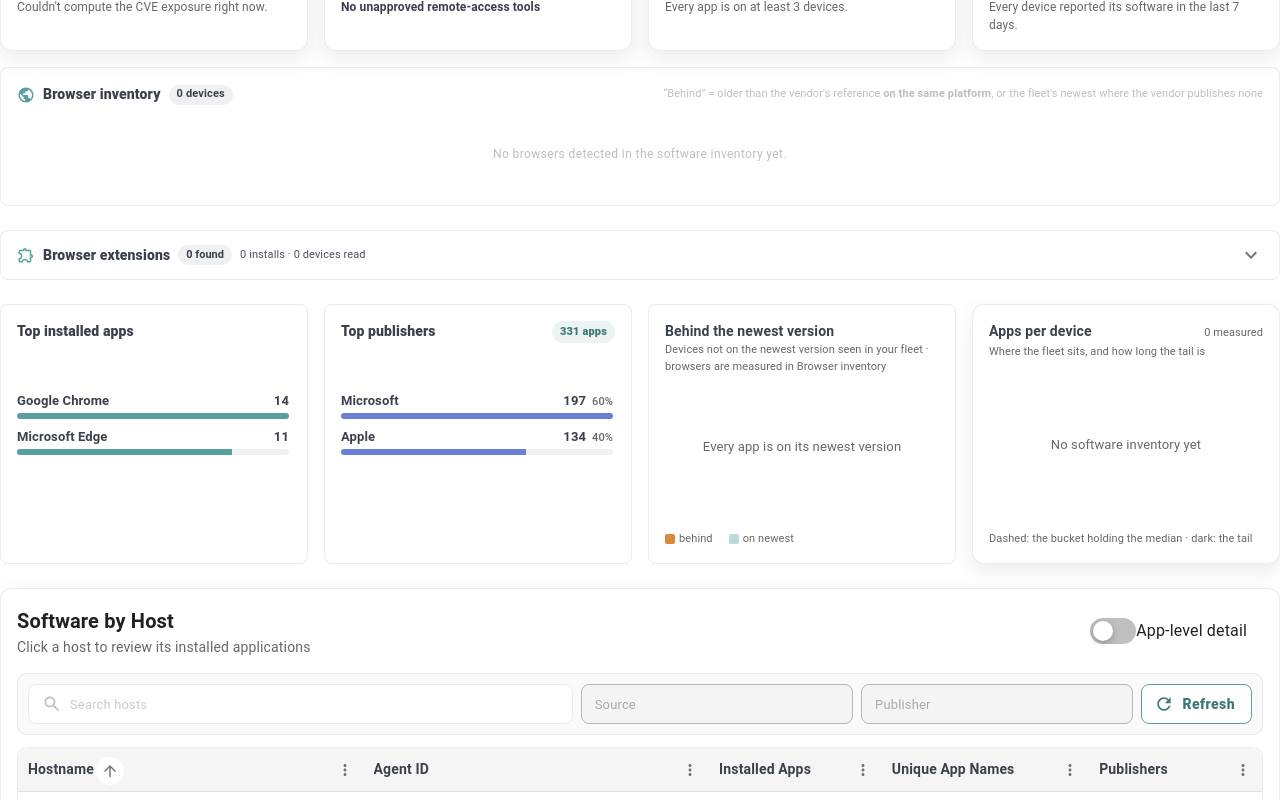
Scenario: SoftwareInventory — filas del ranking › ⭐ un editor del ranking filtra por su etiqueta normalizada (rankedPublisher), no por la columna cruda
The image size is (1280, 800).
(page scrolled)
Click the button "Microsoft 197 60%". click: x=370, y=400
box: [341,391,613,410]
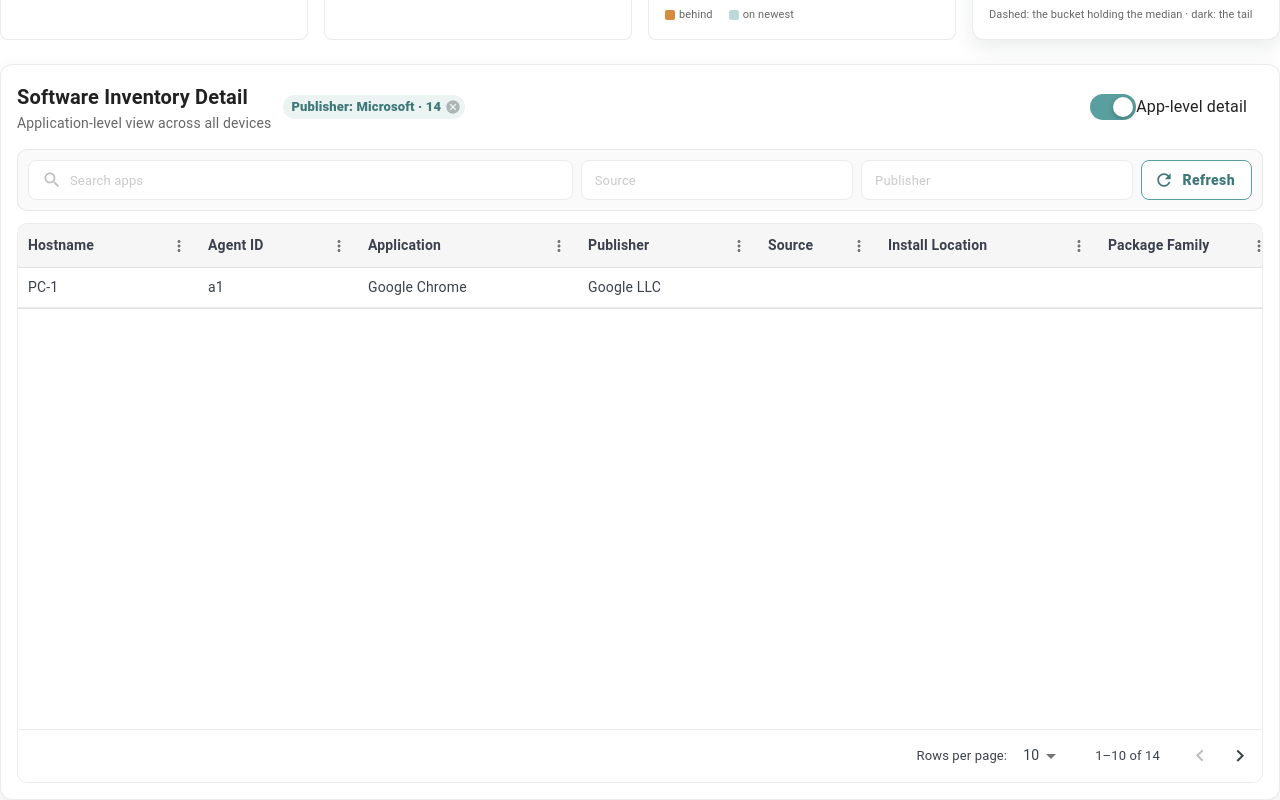
Check: the text "Publisher: Microsoft · 14" is shown, box [283,97,449,117]
